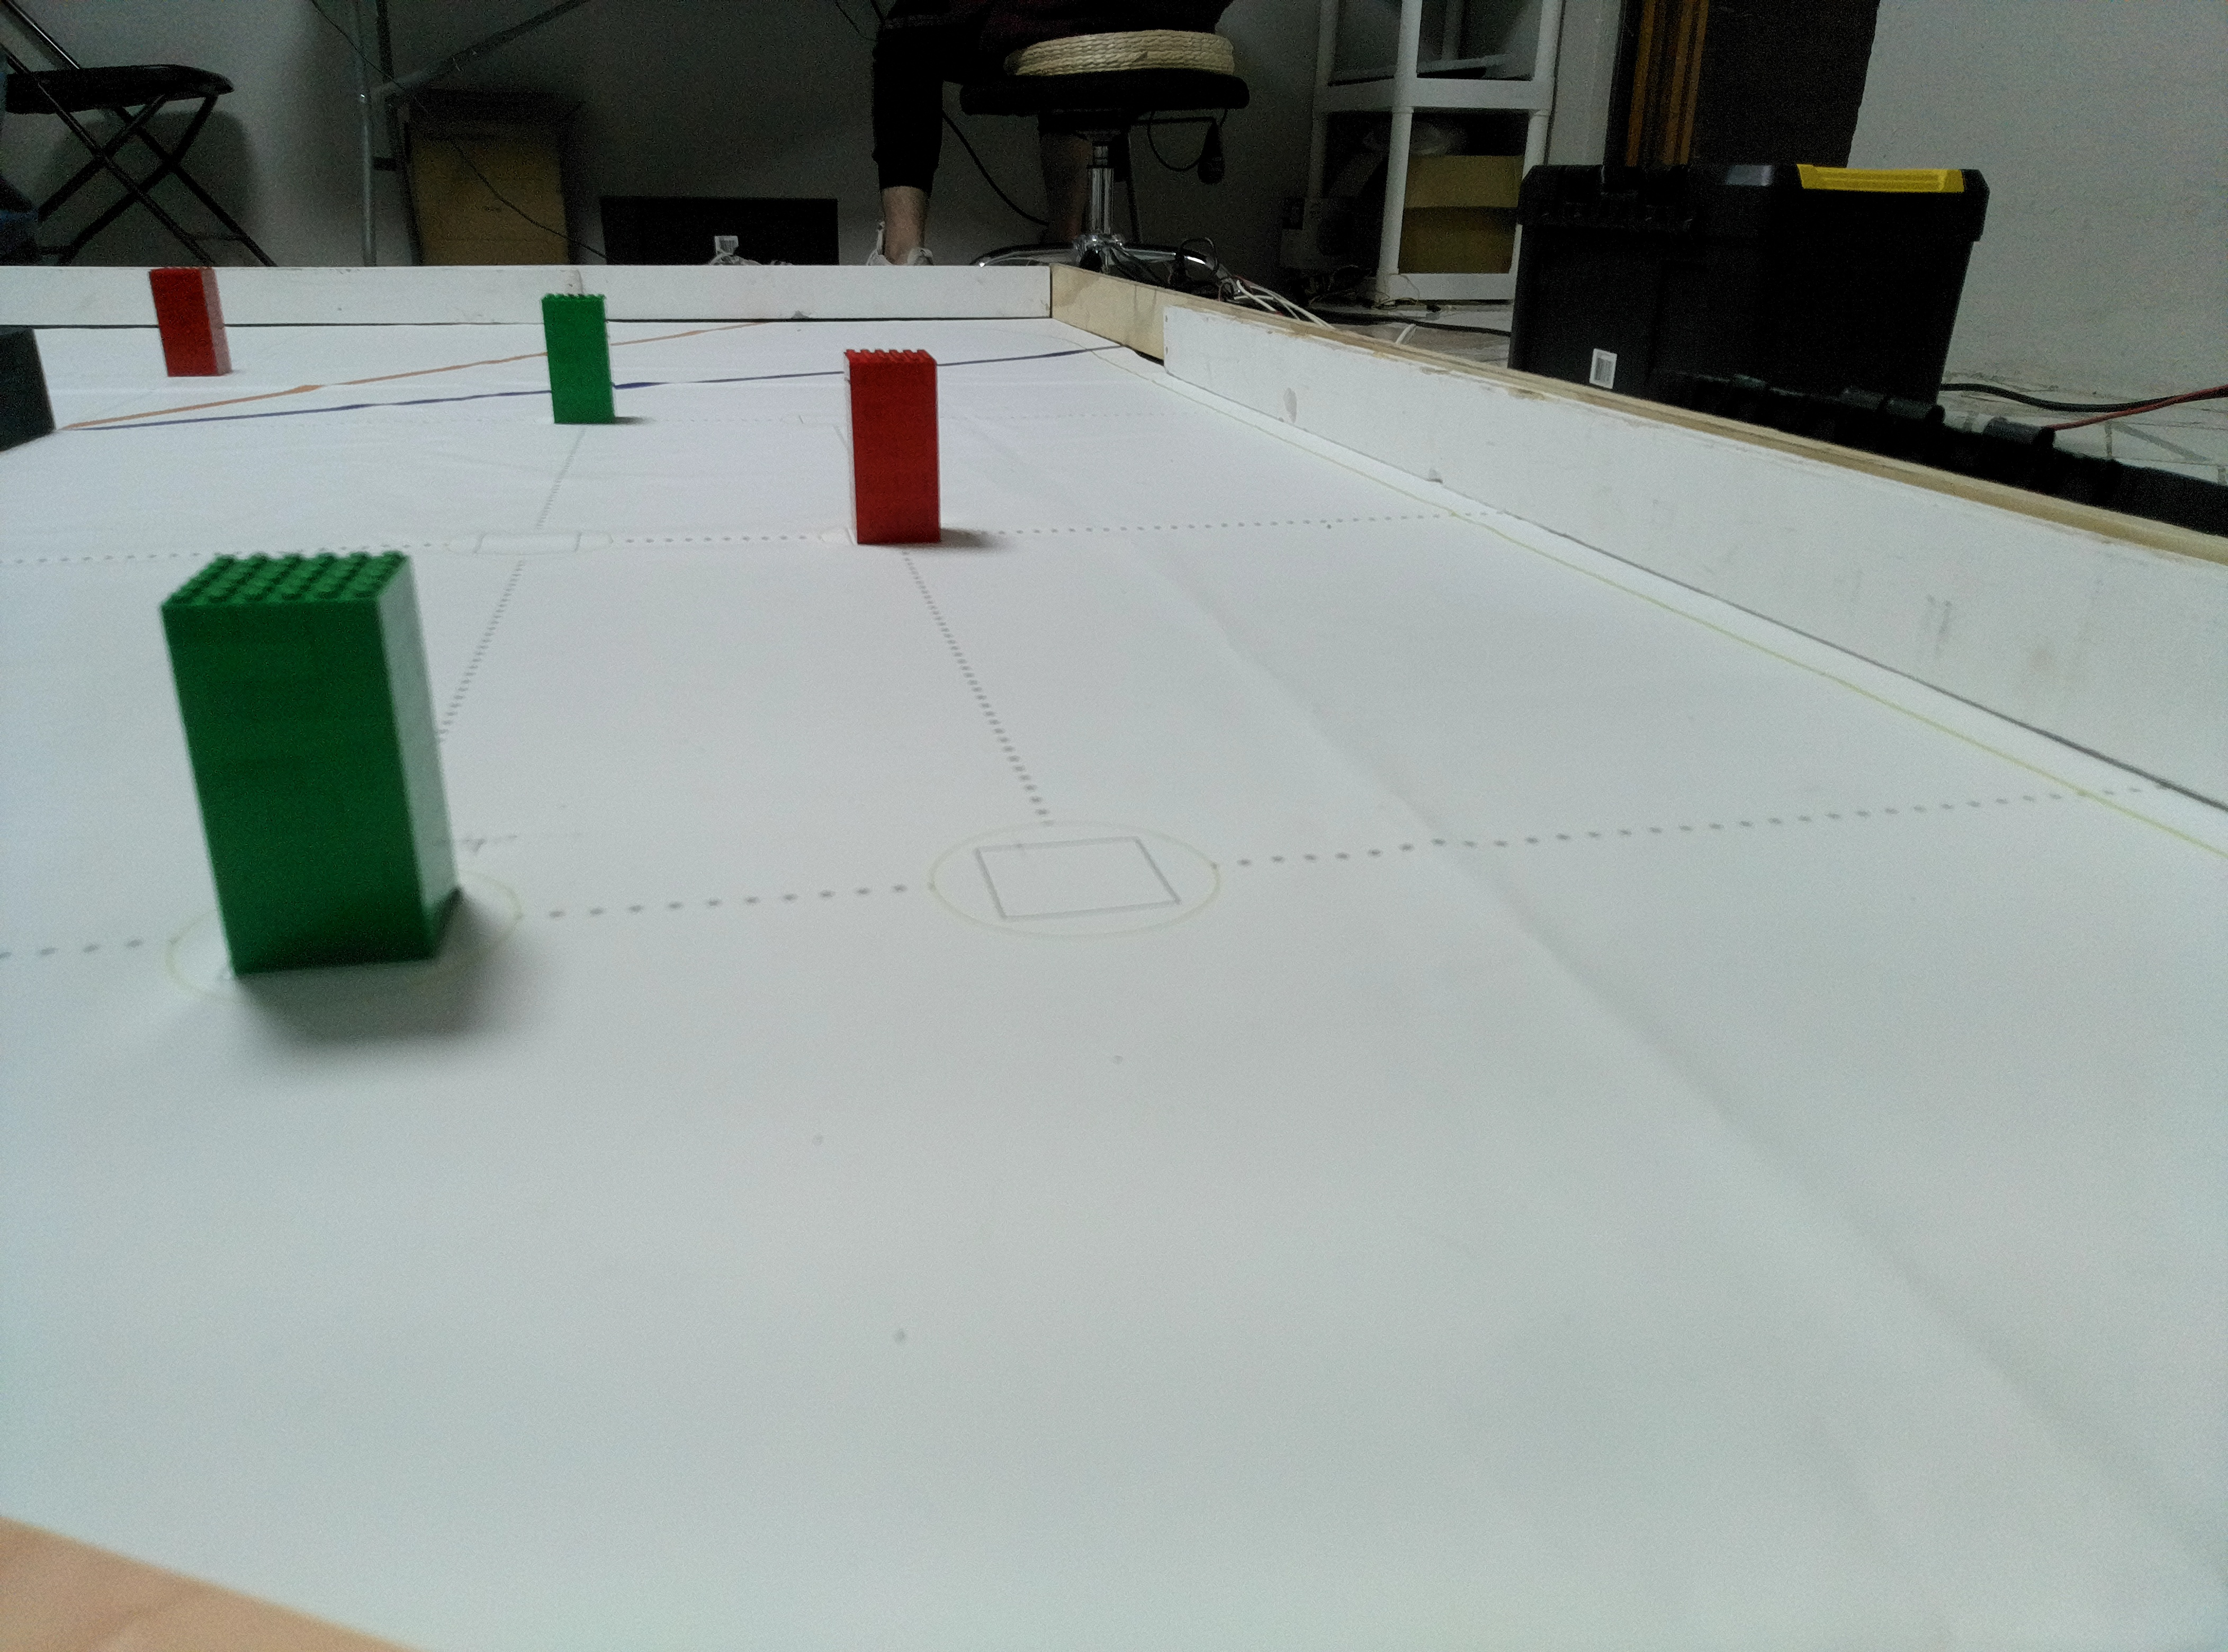greenbox: (151, 555, 472, 973), (533, 293, 626, 432)
redbox: (835, 345, 949, 552), (144, 259, 238, 378)
